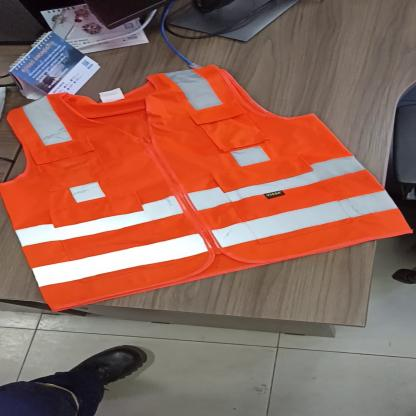colete: (0, 61, 416, 314)
